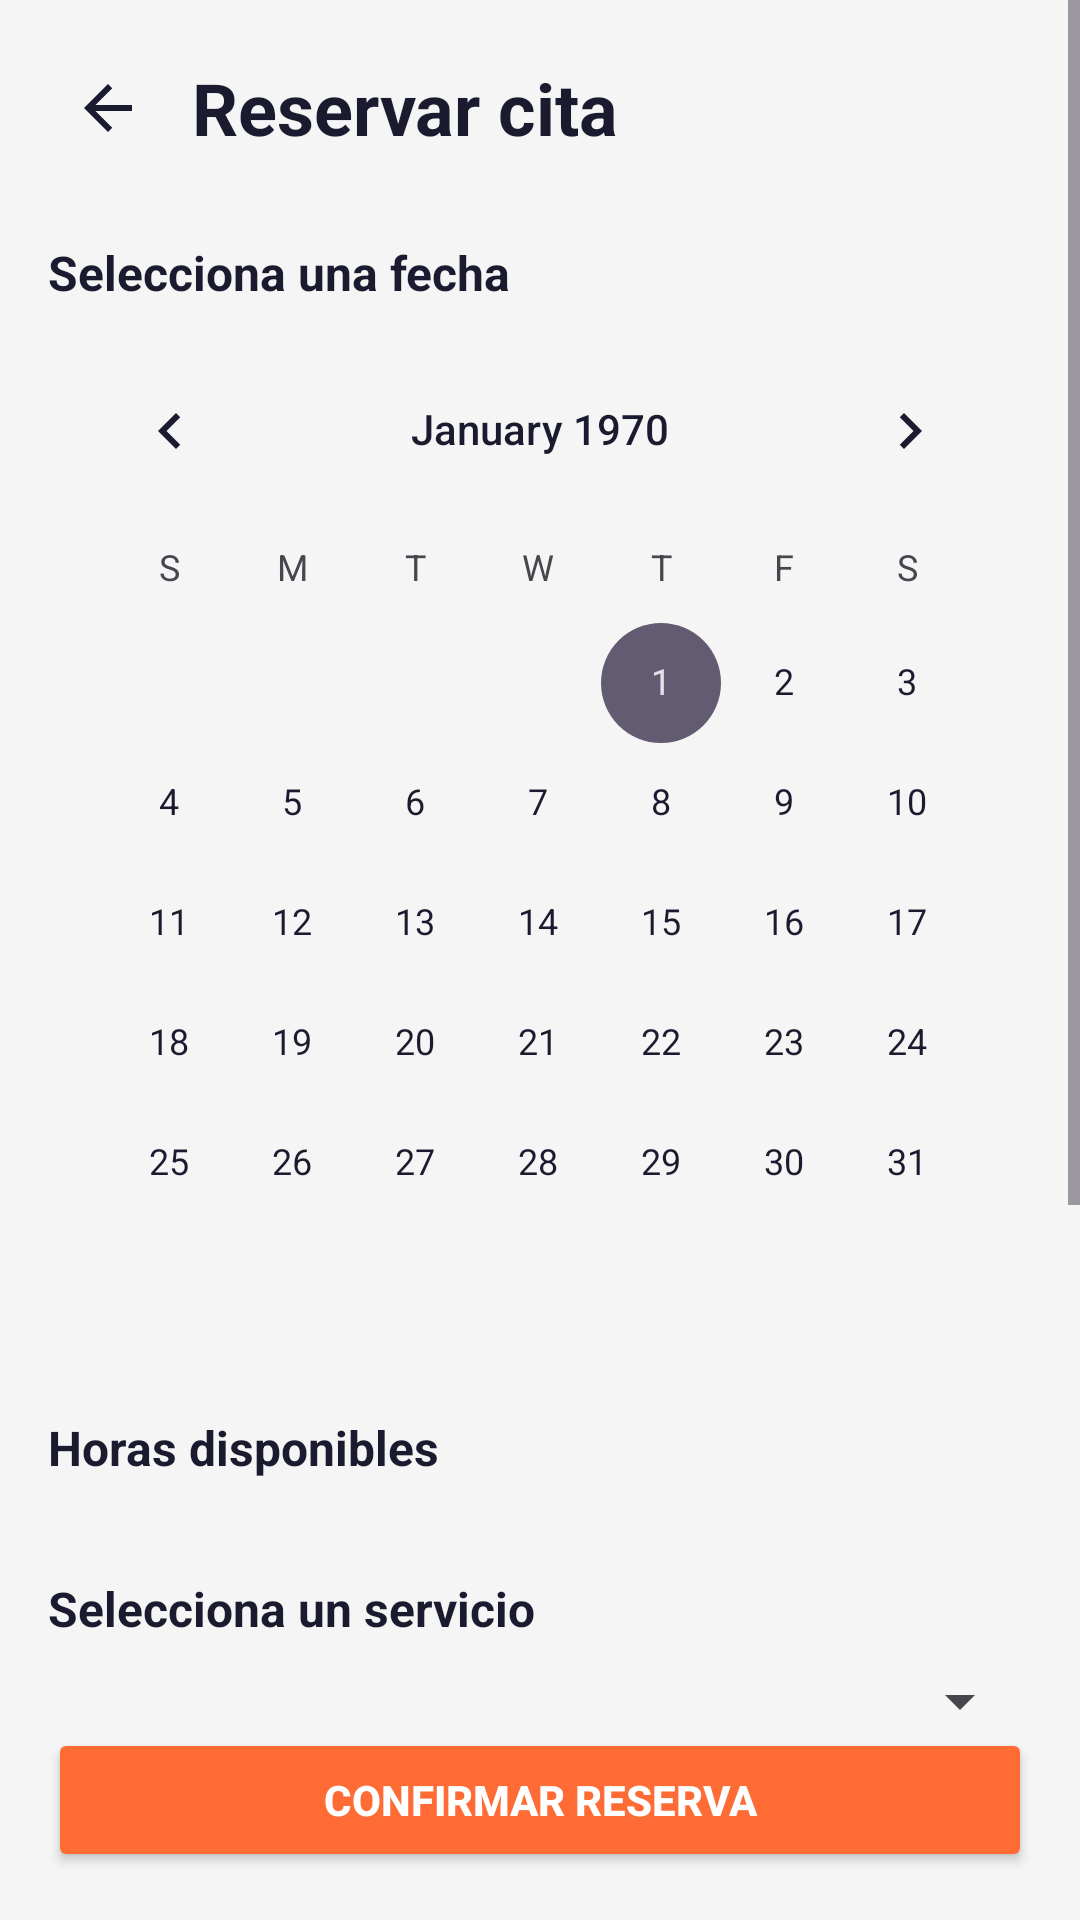

Named icons in this screenshot (1080px x 1920px) and their bounding boxes, (x1, y1, x2, y2):
arrow back: (84, 84, 132, 132)
